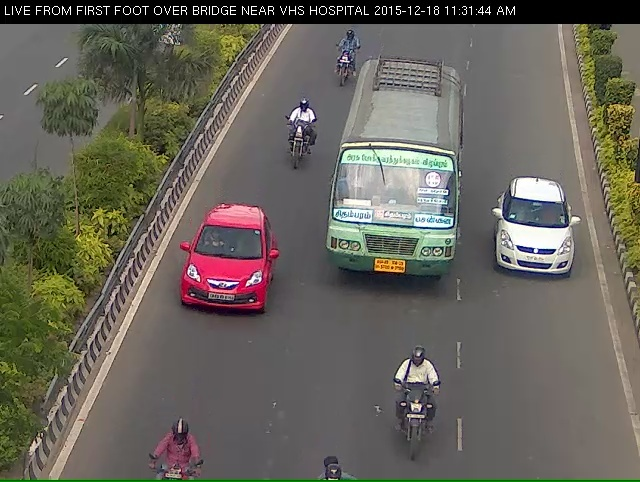Bus: (353, 63, 471, 292)
Car: (179, 222, 271, 348), (490, 194, 585, 307)
Person: (370, 368, 453, 480), (267, 112, 311, 177), (320, 33, 352, 98)
